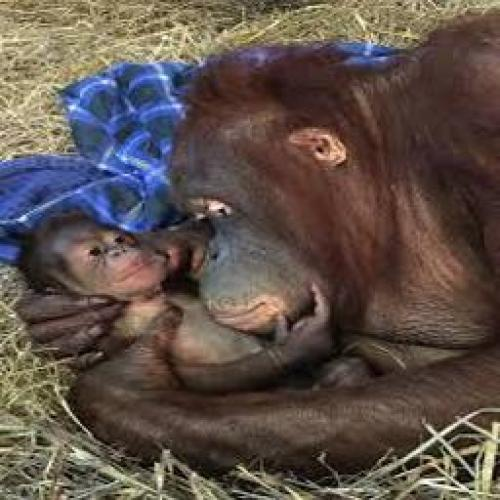orangutan-endangered: (60, 8, 500, 471), (17, 214, 377, 395)
